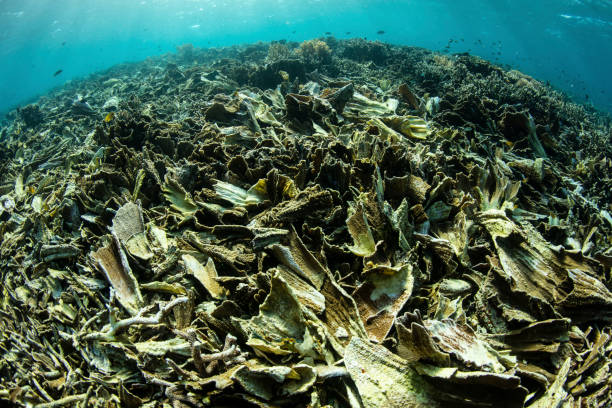dead: (104, 287, 187, 336)
